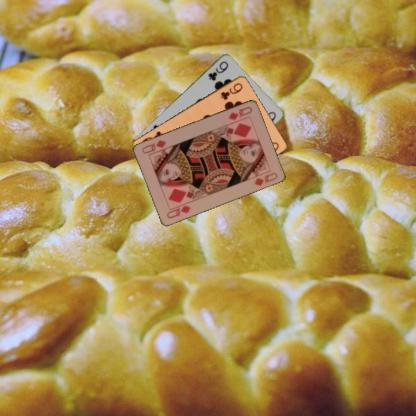9c: (206, 58, 229, 82), (218, 80, 244, 101)
Qd: (164, 198, 192, 220), (226, 103, 254, 121)
